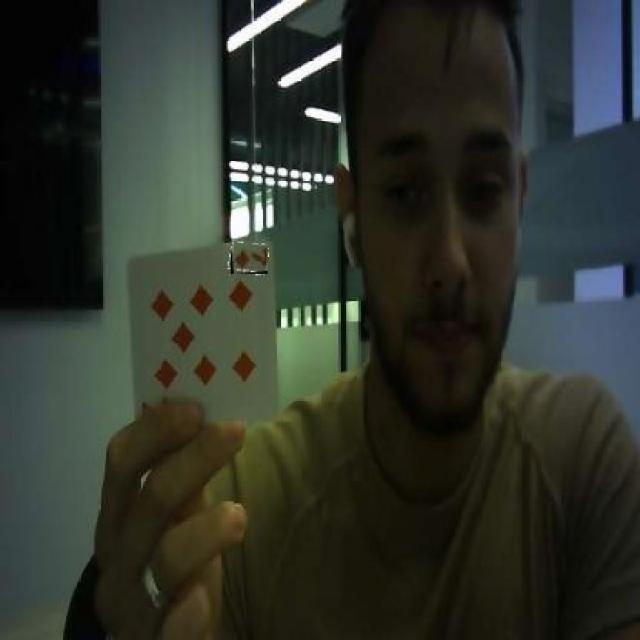7D: (230, 243, 268, 274)
